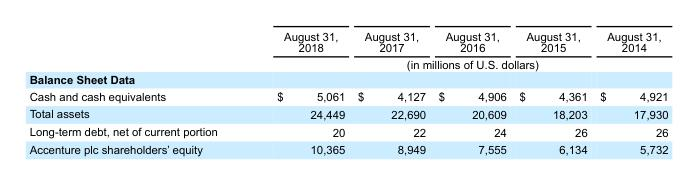table: (28, 29, 667, 155)
table column: (28, 29, 246, 155), (246, 29, 350, 155), (350, 29, 431, 155), (431, 29, 512, 155), (512, 29, 593, 155), (593, 29, 667, 155)
table column header: (28, 29, 667, 71)
table projected row header: (28, 71, 667, 87)
table row: (28, 29, 667, 55), (28, 104, 667, 122), (28, 122, 667, 140), (28, 87, 667, 104), (28, 55, 667, 71), (28, 71, 667, 87), (28, 140, 667, 155)
table spanning cell: (246, 55, 667, 71)
